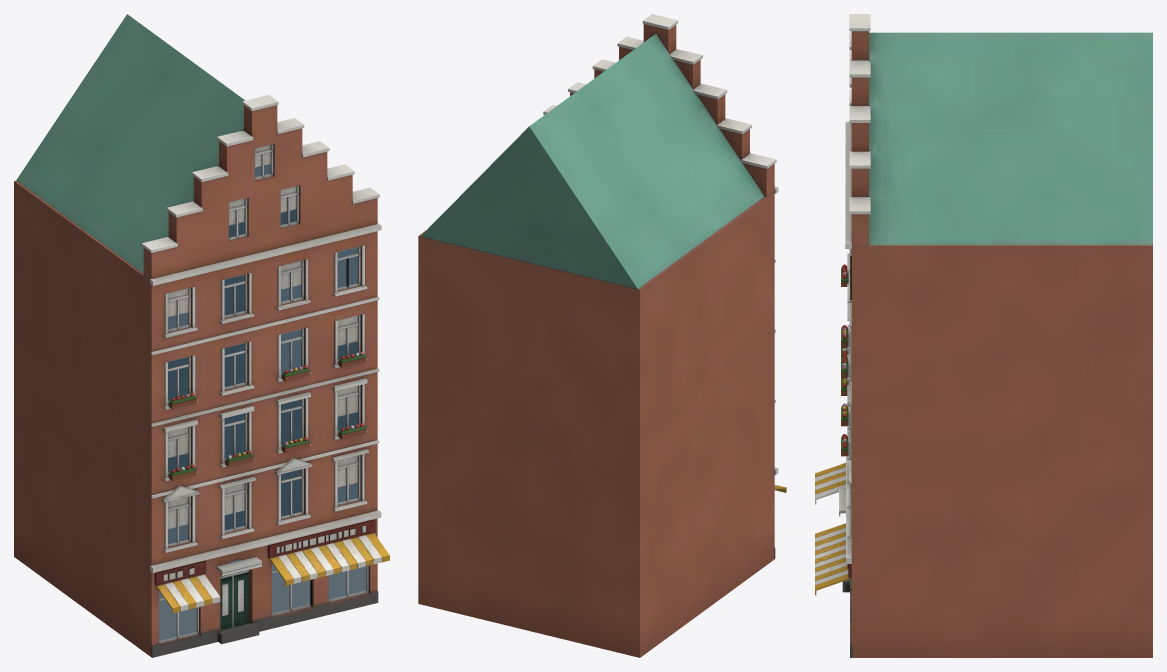
The model's file is getkong-hh5.glb.
3 views of the same model, side by side, from view 1: azimuth 30°, elevation 25°; view 2: azimuth 150°, elevation 25°; view 3: azimuth 270°, elevation 25° (orthographic). The views are drawn at different scales.
Parts seen in each view (by area): view 1: Haus; view 2: Haus; view 3: Haus.
Part boxes in pixels (left/top/right/bottom): Haus: left=14, top=14, right=389, bottom=657; Haus: left=418, top=14, right=786, bottom=657; Haus: left=815, top=14, right=1152, bottom=657.
Size of the model in its own units: 11.52 by 25.31 by 13.45.
5 materials, 2 textured.
